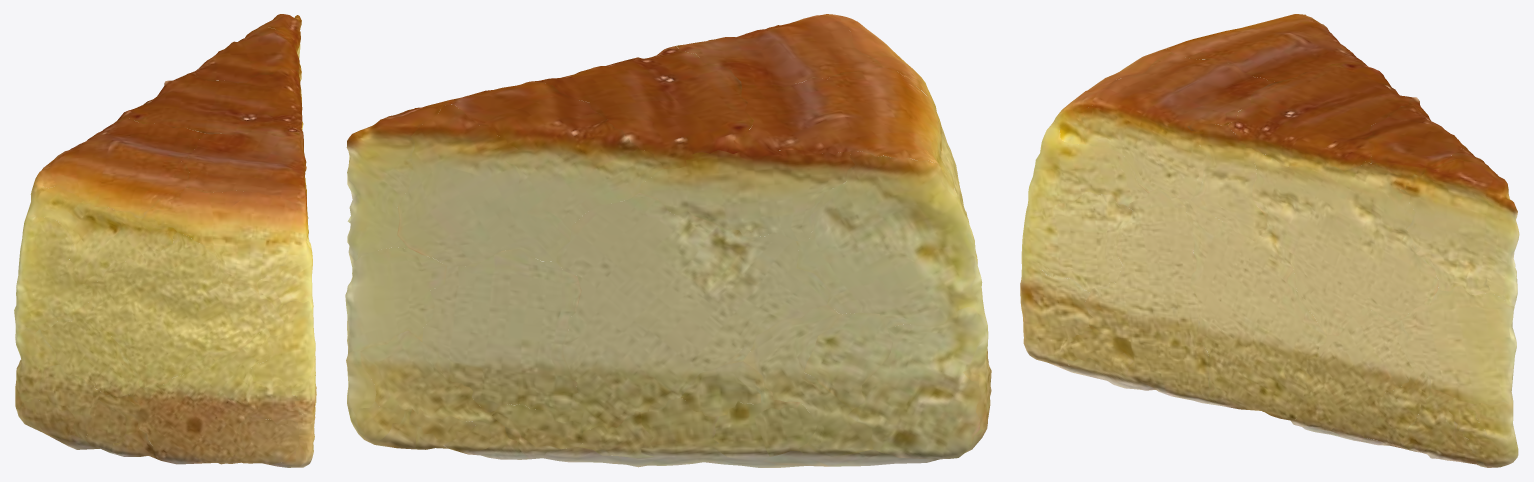
3 renders of one model, left to right at view 1: azimuth 30°, elevation 25°; view 2: azimuth 150°, elevation 25°; view 3: azimuth 270°, elevation 25°, orthographic. The views are drawn at different scales.
Visible parts, largest first — view 1: cake_0; view 2: cake_0; view 3: cake_0.
Boxes of the visible parts, x1,y1,x2,y2 form: cake_0: [14, 14, 316, 467]; cake_0: [345, 14, 991, 467]; cake_0: [1020, 14, 1519, 467].
Bounding box in the file's own units: 0.089 × 0.0583 × 0.0871.
1 material, 1 textured.
